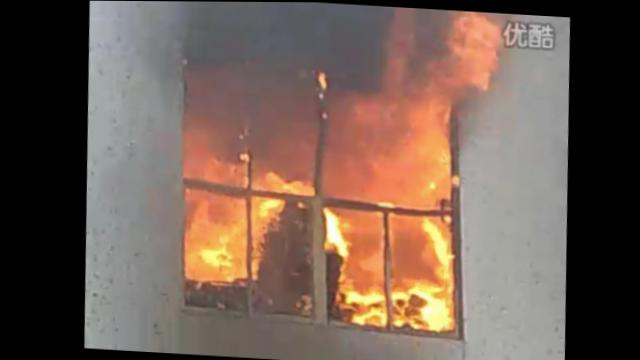fire: (314, 100, 449, 206), (380, 211, 457, 332), (315, 206, 387, 325), (177, 189, 248, 281), (446, 14, 495, 88), (245, 195, 285, 282), (181, 133, 246, 185), (247, 166, 312, 194)
